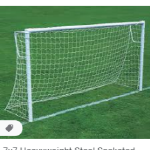goals: (5, 19, 146, 123)
